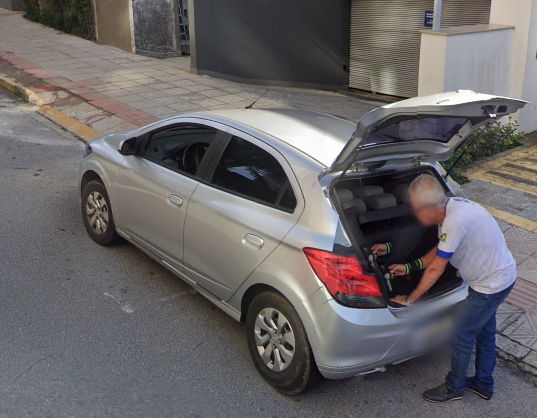car: (75, 97, 501, 397)
